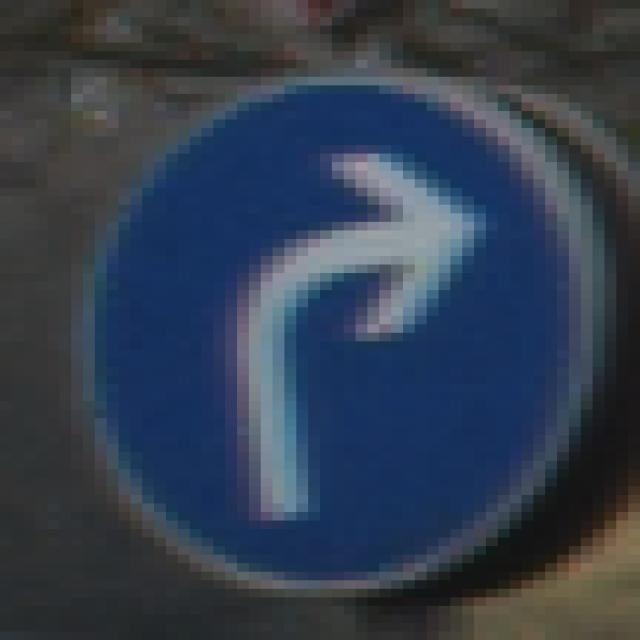compulsary turn right ahead: (64, 72, 616, 598)
